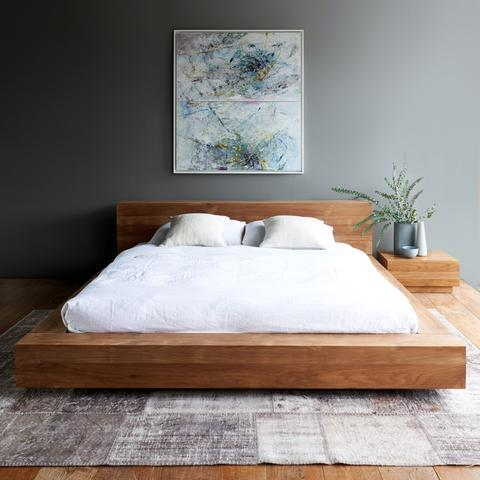bed: (16, 177, 474, 403)
